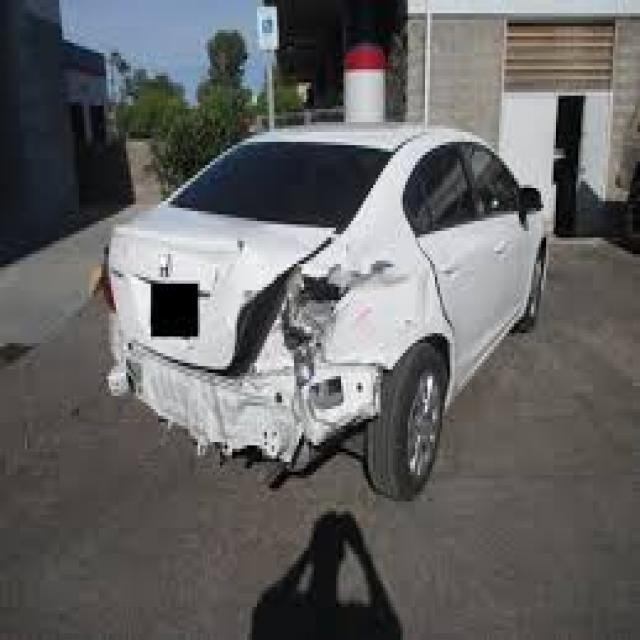damaged-trunk: (110, 203, 320, 371)
